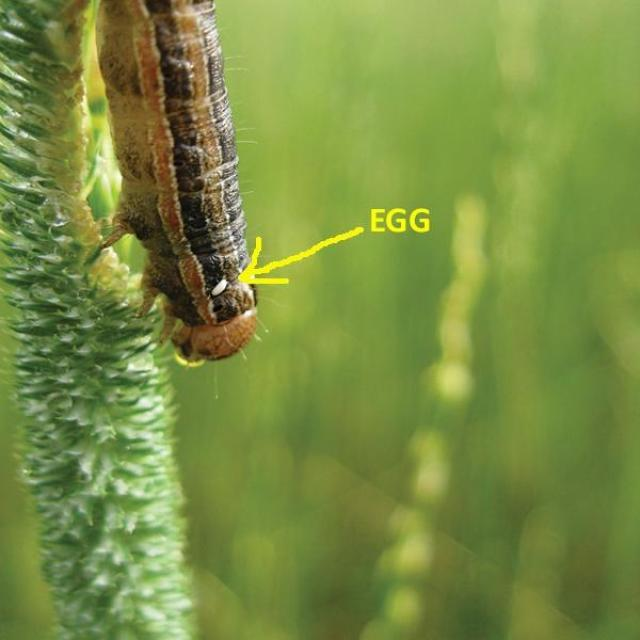army worm: (99, 2, 276, 370)
